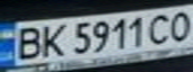1: (124, 12, 151, 47), (109, 16, 130, 50)
5: (69, 19, 93, 56)
9: (87, 18, 112, 54)
B: (9, 24, 45, 61)
C: (145, 11, 175, 45)
K: (36, 21, 69, 59)
O: (163, 7, 193, 43)
